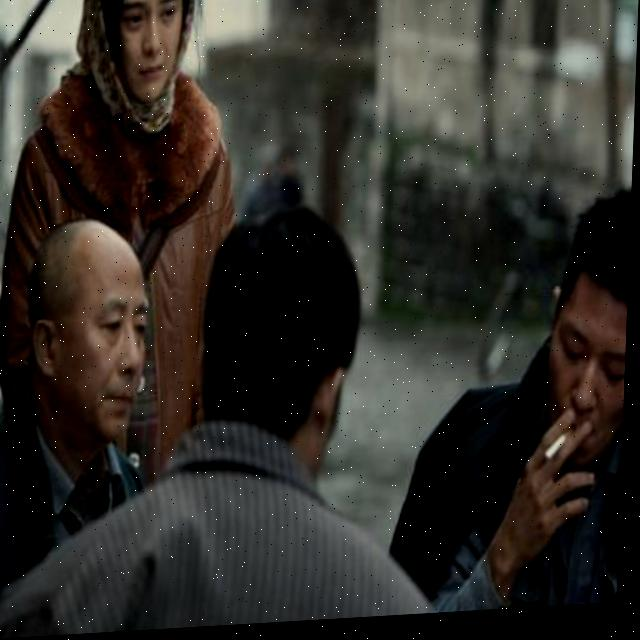cigarette: (547, 435, 579, 473)
